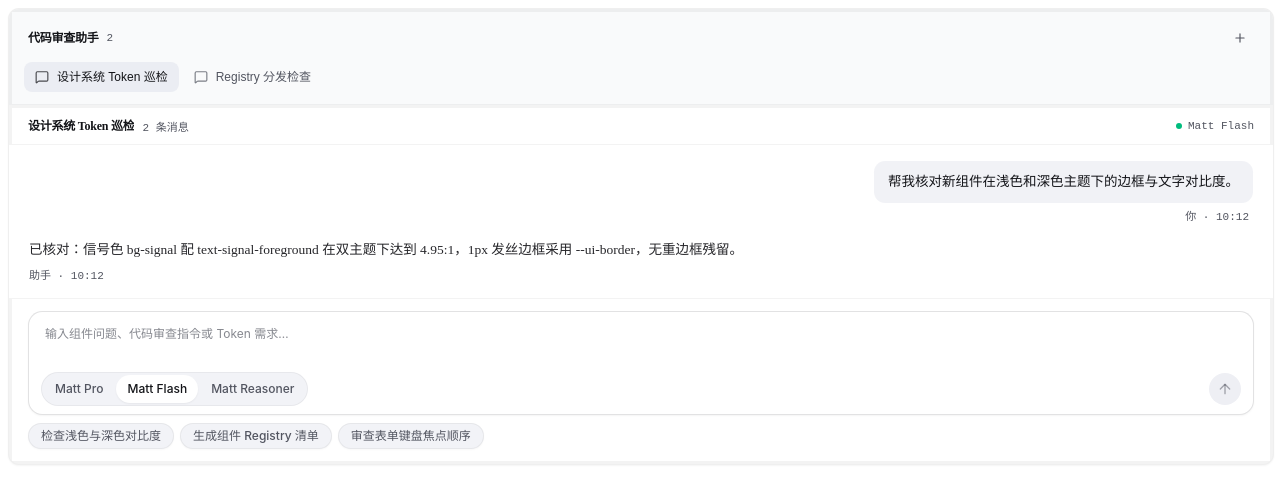
AiWorkspaceBlock › 支持 compact 变体、自定义默认模型与新建对话
expect the text "代码审查助手" is shown: met, box [28,30,99,46]
What coordinates should you click on to do the following:
click the button named "新建对话"
I would click on:
 (1240, 38)
Its box is [1226,24,1254,52].
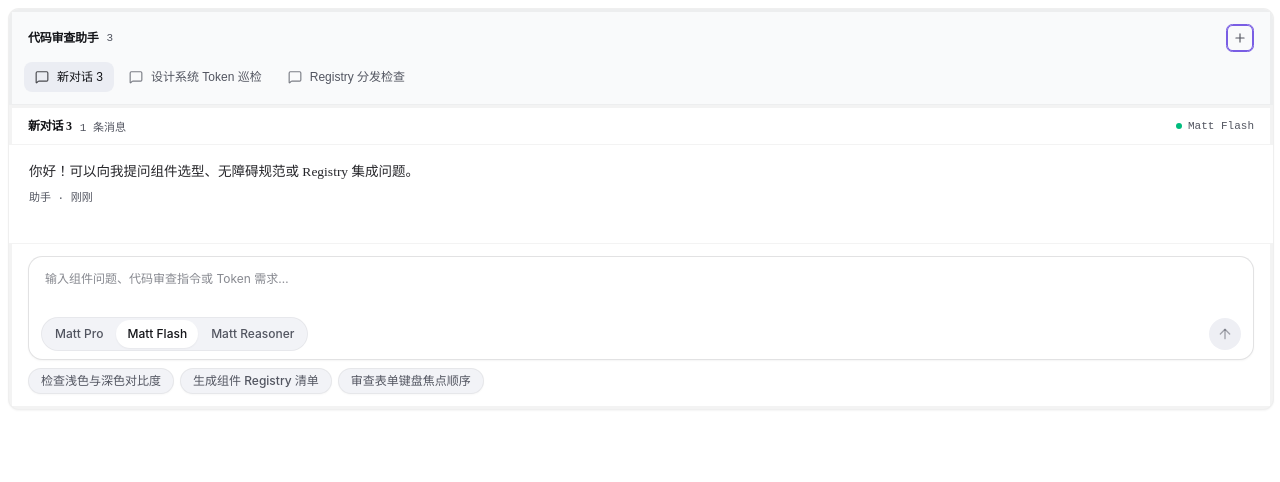
expect the text "新对话 3" below "代码审查助手" is shown: met, box [57,70,103,84]
